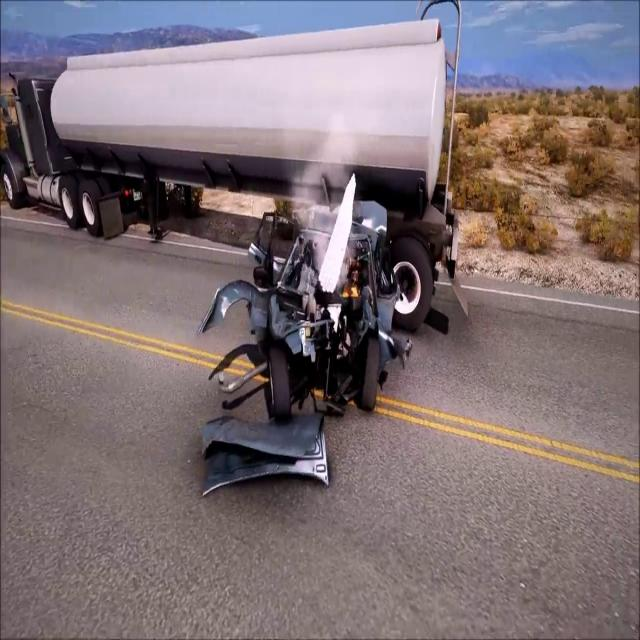accident: (204, 129, 441, 509)
